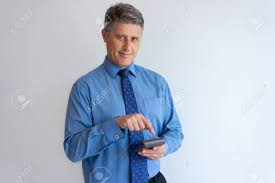white_male: (108, 10, 143, 80)
